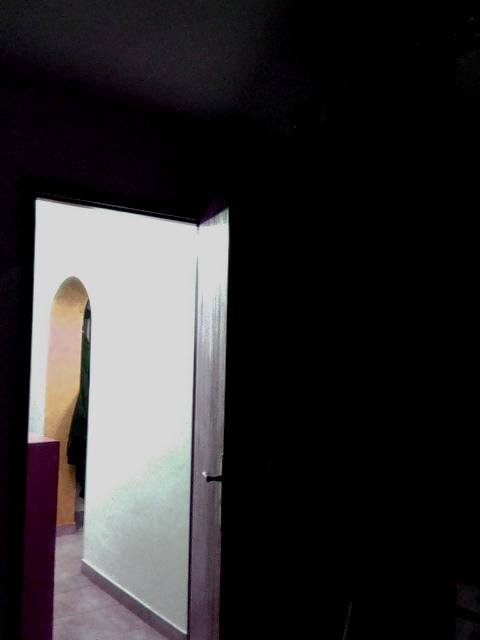open_door: (10, 172, 216, 639)
